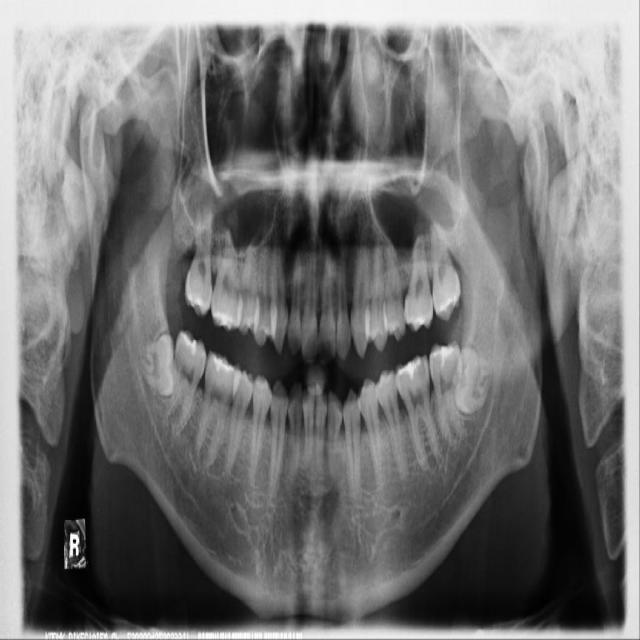Filling: (207, 354, 236, 376), (399, 356, 423, 379), (181, 333, 200, 354), (434, 346, 454, 363)
impacted tooth: (454, 345, 492, 413), (137, 334, 177, 397)
